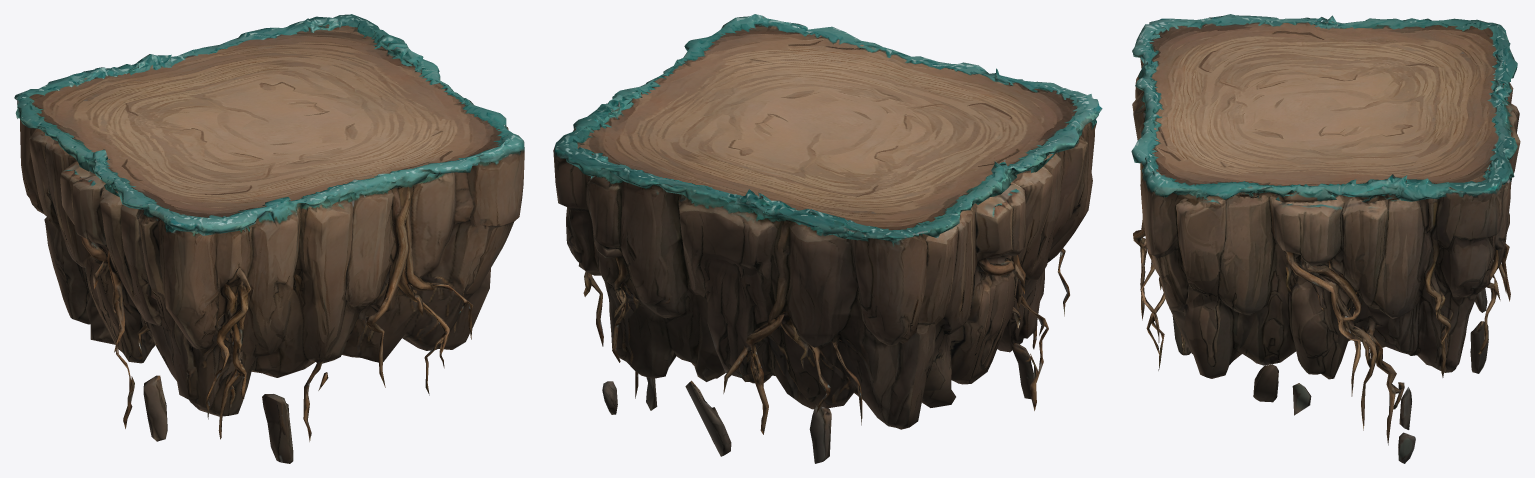
The model's file is IslandBase_fitted.glb.
3 views of the same model, side by side, from view 1: azimuth 30°, elevation 25°; view 2: azimuth 150°, elevation 25°; view 3: azimuth 270°, elevation 25° (orthographic). The views are drawn at different scales.
Visible parts, largest first — view 1: texture_mapping; view 2: texture_mapping; view 3: texture_mapping.
Boxes of the visible parts, x1,y1,x2,y2 form: texture_mapping: [14, 14, 524, 463]; texture_mapping: [553, 14, 1102, 463]; texture_mapping: [1131, 14, 1520, 463].
Bounding box in the file's own units: 40.45 × 29.73 × 36.26.
Materials: 1 (1 with a texture image).
